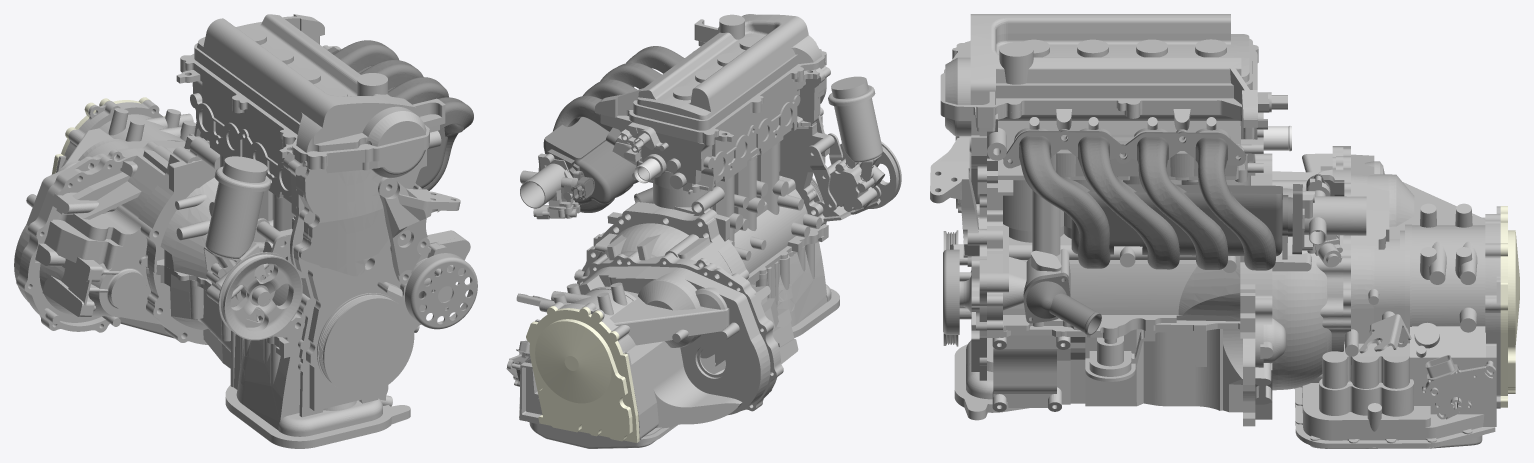
Rendered from Engine Toyota 1NZ.glb.
3 renders of one model, left to right at view 1: azimuth 30°, elevation 25°; view 2: azimuth 150°, elevation 25°; view 3: azimuth 270°, elevation 25°, orthographic. The views are drawn at different scales.
Visible parts, largest first — view 1: Node5, Node3, Node4, Node6, Node7, Node10, Node1, Node2, Node8, Node9; view 2: Node3, Node6, Node9, Node7, Node4, Node5, Node2, Node1, Node8; view 3: Node3, Node5, Node6, Node4, Node1, Node2, Node8, Node7, Node9, Node10, Node11.
Part boxes in pixels (x1,y1,x2,y2): Node5: [119, 137, 470, 448]; Node3: [14, 14, 445, 403]; Node4: [19, 122, 291, 336]; Node6: [142, 36, 462, 352]; Node7: [203, 45, 341, 340]; Node10: [405, 253, 477, 329]; Node1: [360, 60, 463, 186]; Node2: [327, 40, 463, 134]; Node8: [419, 98, 473, 190]; Node9: [51, 97, 165, 174]; Node3: [511, 14, 826, 442]; Node6: [585, 41, 834, 281]; Node9: [526, 306, 639, 442]; Node7: [518, 76, 901, 293]; Node4: [574, 107, 801, 407]; Node5: [506, 60, 839, 448]; Node2: [543, 58, 670, 212]; Node1: [546, 49, 678, 203]; Node8: [515, 46, 684, 386]; Node3: [940, 14, 1500, 447]; Node5: [930, 57, 1496, 448]; Node6: [977, 56, 1271, 338]; Node4: [987, 95, 1343, 419]; Node1: [1003, 131, 1275, 269]; Node2: [1049, 137, 1302, 270]; Node8: [1003, 130, 1475, 406]; Node7: [956, 175, 1410, 351]; Node9: [1500, 206, 1519, 407]; Node10: [943, 249, 959, 334]; Node11: [1263, 126, 1291, 151].
Size of the model in its own units: 577 by 606 by 831.
